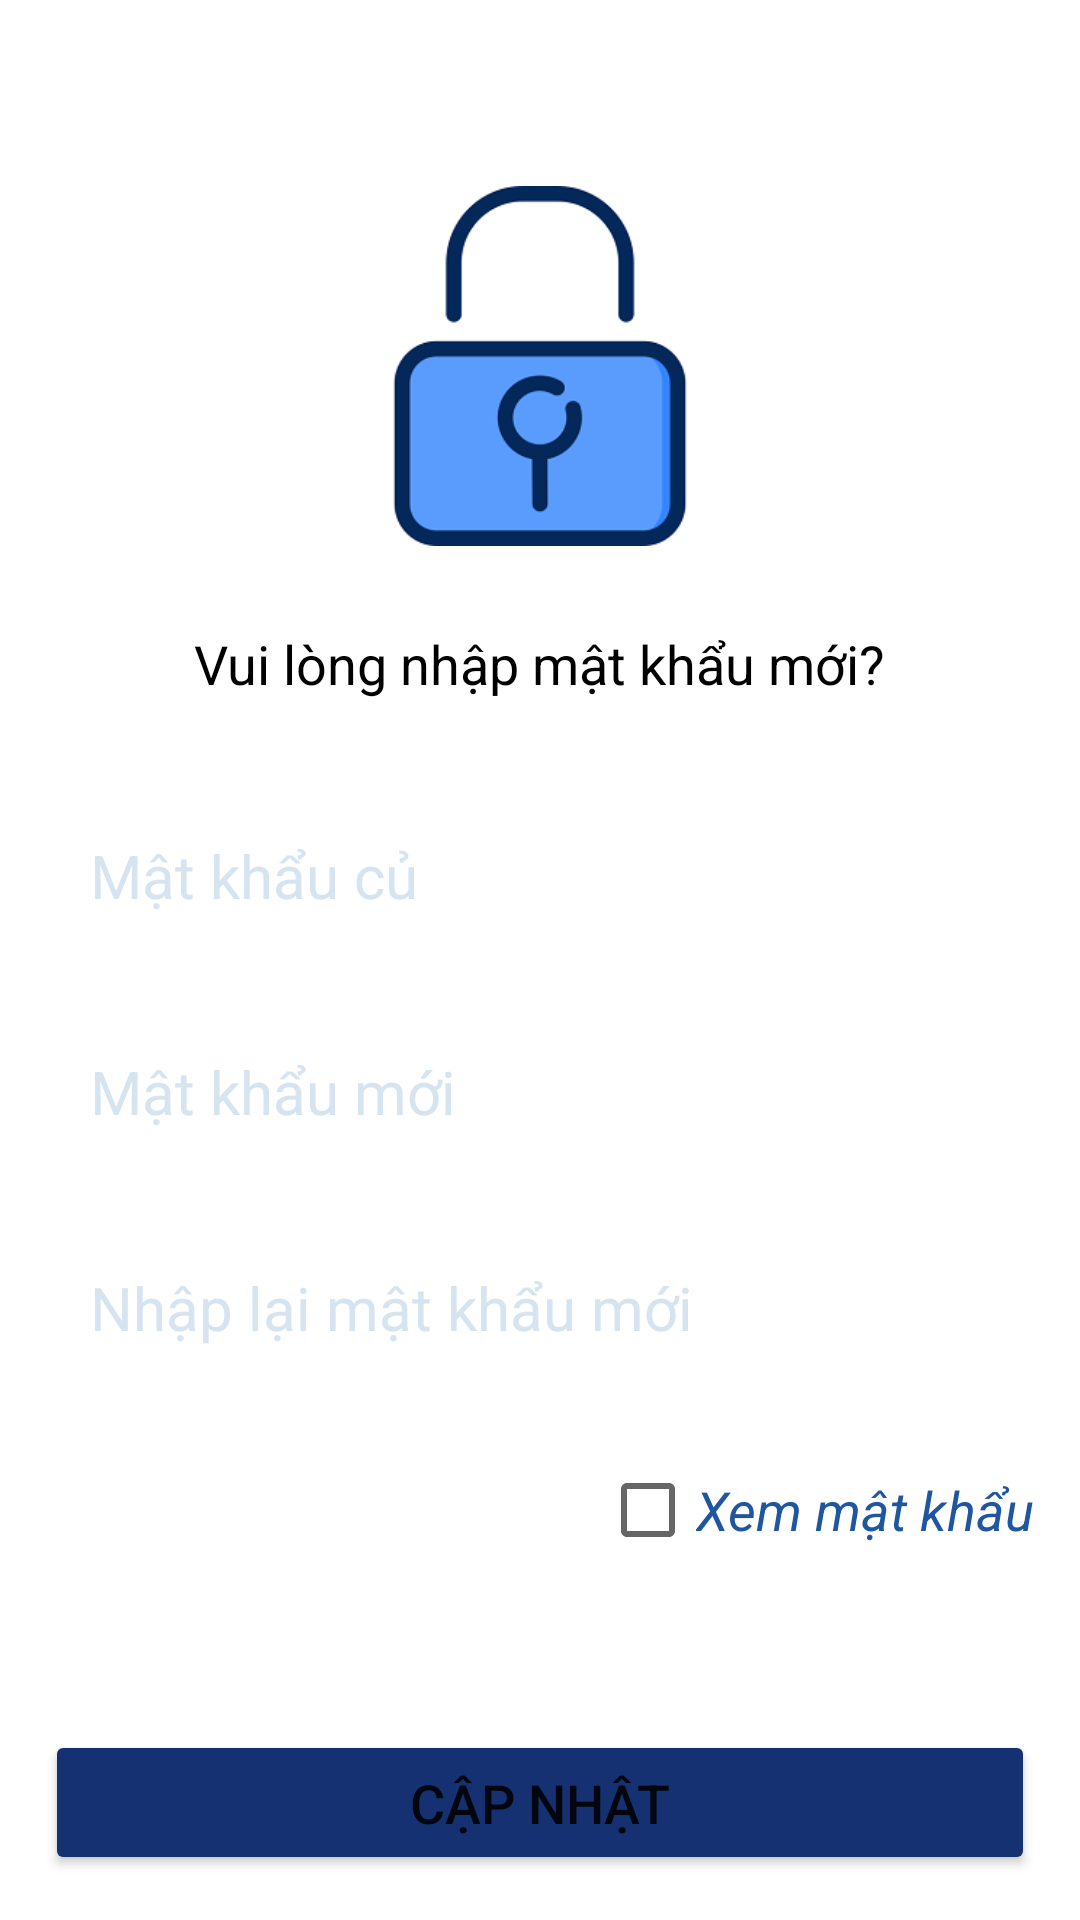

Screen size 1080*1920. Icon name, then its center in pixels as (x,y):
lock: (540,366)
